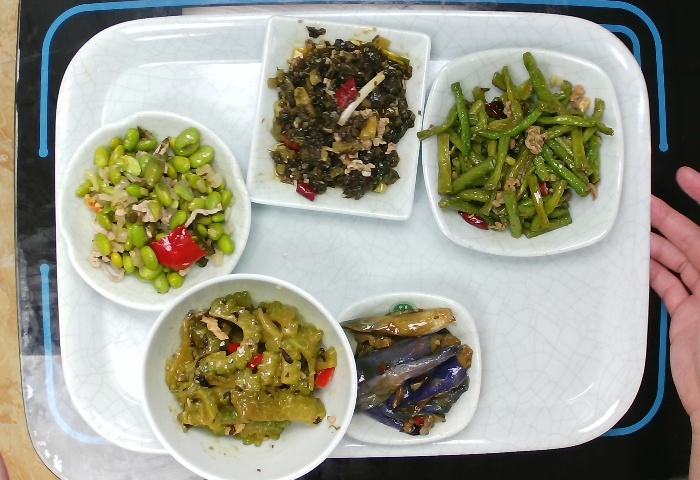JYsf-Ao_Yuan_Wan: (52, 105, 255, 314)
JYsf-Fan_Wan: (134, 270, 361, 480)
JYsf-Si_Fang_Die: (333, 289, 486, 450)
WCQzf-Da_Si_Fang_Die: (419, 42, 629, 260)
WCQzf-Ru_Ci_Si_Fang_Die: (240, 9, 437, 225)
